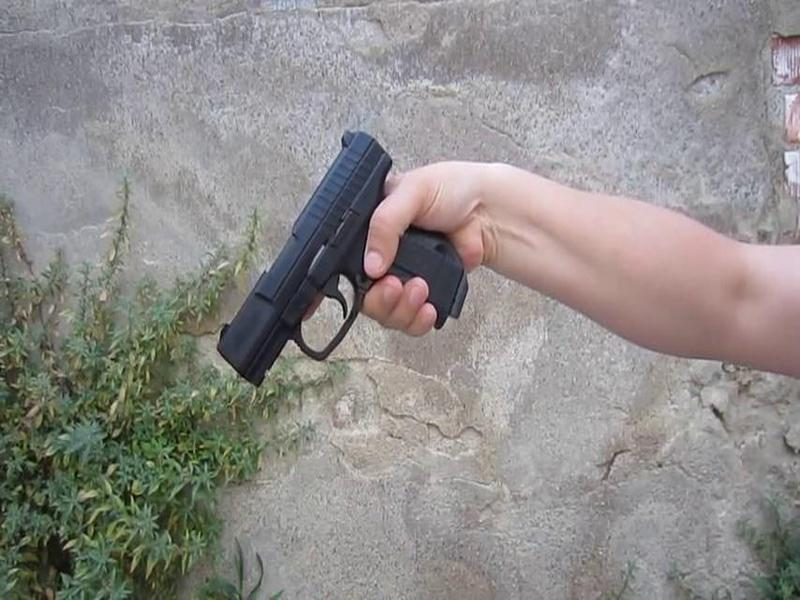Pistola: (193, 131, 487, 398)
